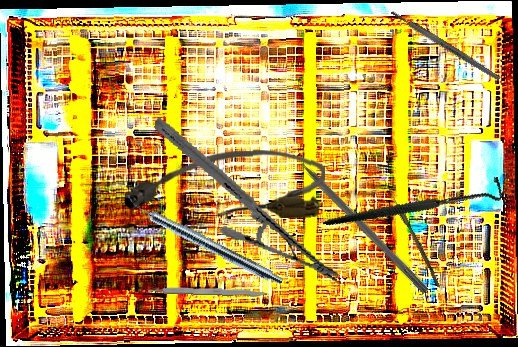Cannula: (124, 149, 326, 221)
Handpiece: (122, 194, 287, 288)
Hook Surgical: (322, 130, 508, 274)
Needle Holder: (130, 117, 363, 284)
Pusher: (281, 140, 431, 295)
Scalpel Handle: (389, 8, 502, 83), (147, 284, 268, 298)
Surgical Spoon: (379, 176, 444, 288)
